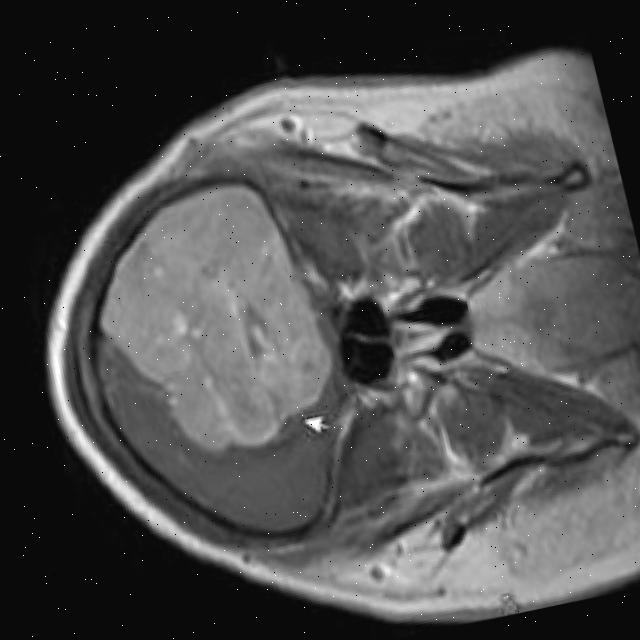Meningioma: (71, 163, 351, 475)
